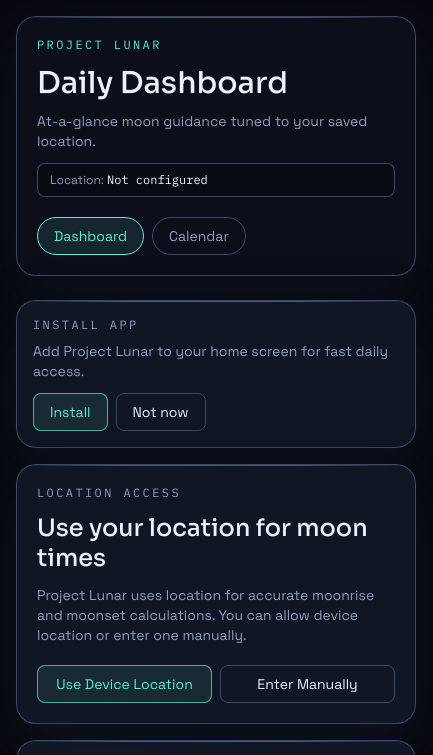
Test: Install prompt handling › persists dismissal when user chooses not to install
Step 1. Click the button "Not now" → (160, 412), box [116,392,206,430]
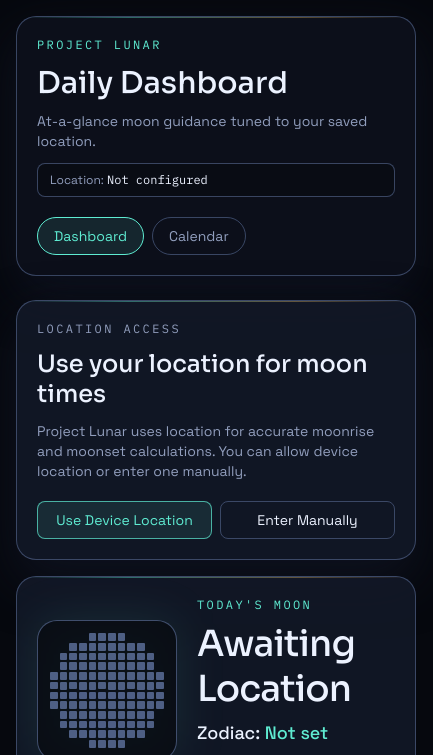
Expected: the text "Install App" is gone
